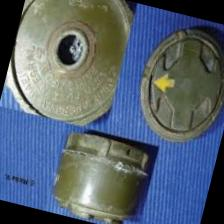M14: (0, 0, 137, 130), (0, 0, 133, 124), (37, 121, 172, 224), (131, 16, 224, 152), (133, 24, 224, 153), (46, 121, 159, 224)
